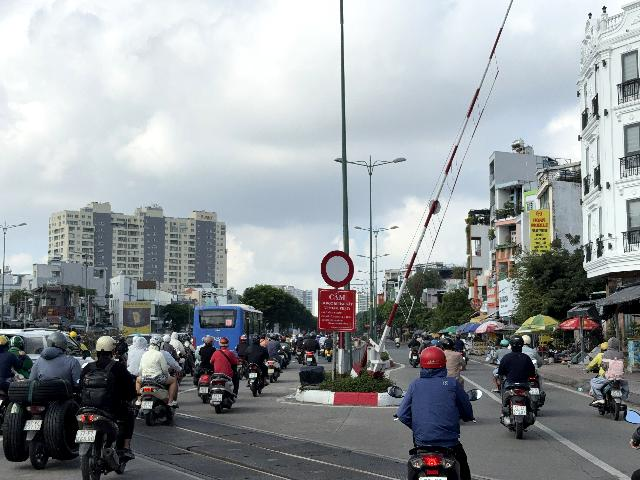duong-cam: (321, 250, 354, 288)
